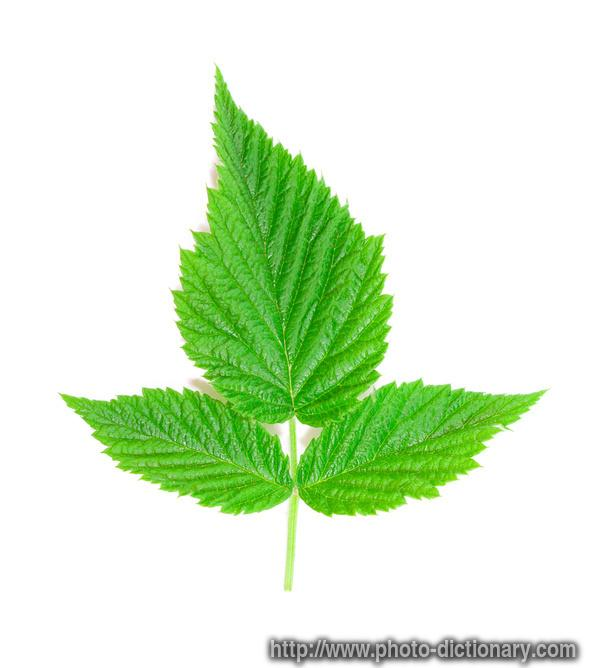Raspberry leaf: (167, 61, 394, 424), (293, 374, 552, 522), (57, 379, 295, 523)
